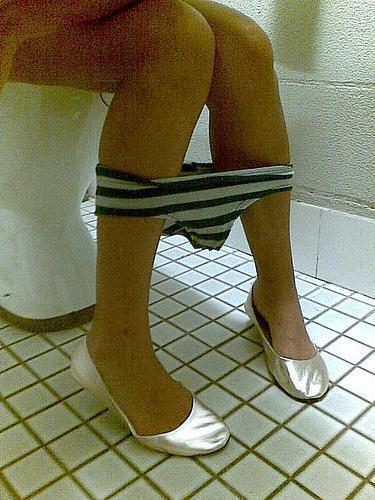Sanitario: (0, 73, 160, 346)
